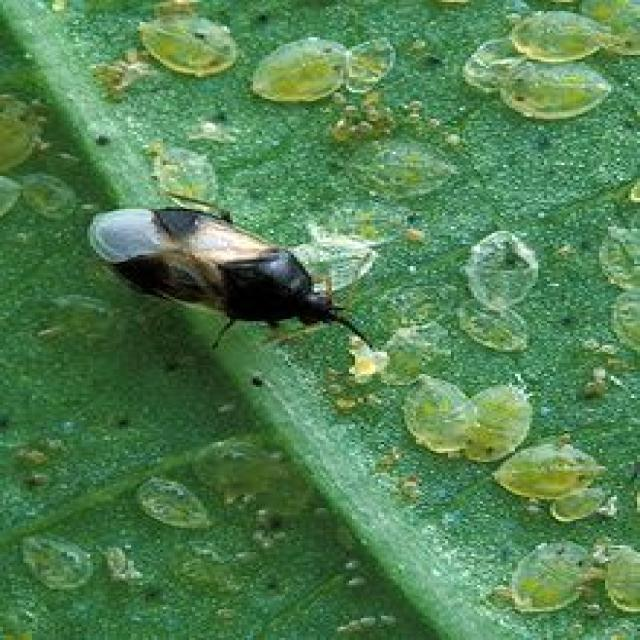Whiteflies: (339, 336, 417, 391)
